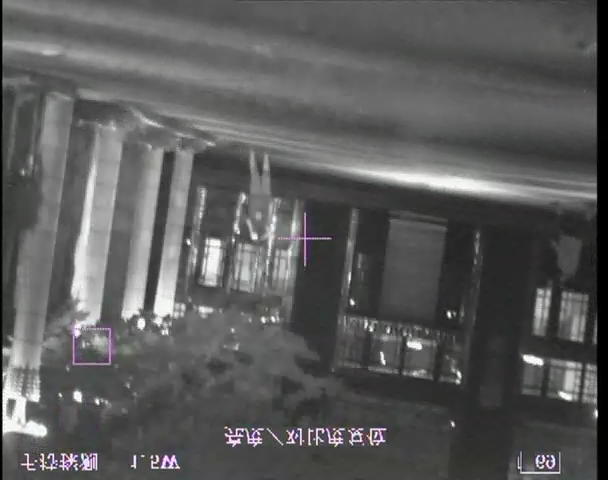my: (250, 231, 258, 240)
